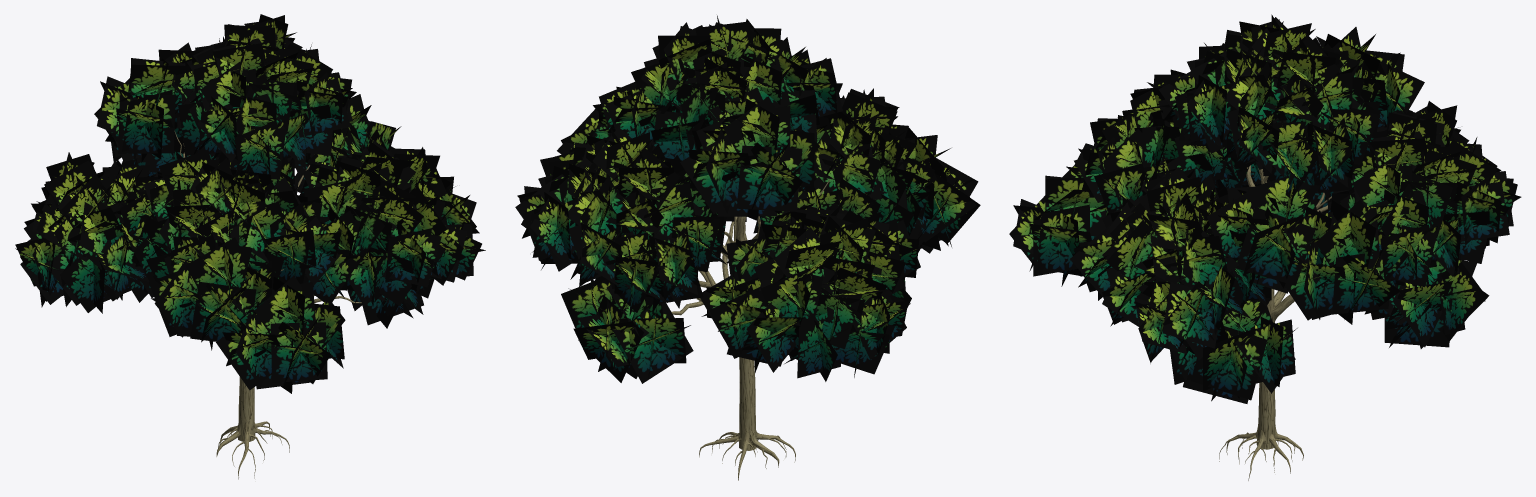
Rendered from stylized-anime-style-azureleaf-tree-pack-vol-4.glb.
The picture shows the model from 3 angles, left to right: view 1: azimuth 30°, elevation 25°; view 2: azimuth 150°, elevation 25°; view 3: azimuth 270°, elevation 25°; orthographic projection. The views are drawn at different scales.
Parts seen in each view (by area): view 1: _gltfNode_4, _gltfNode_1; view 2: _gltfNode_4, _gltfNode_1; view 3: _gltfNode_4, _gltfNode_1.
Part boxes in pixels (box(x1,y1,x2,y2)): _gltfNode_4: box(15, 14, 485, 393); _gltfNode_1: box(174, 131, 361, 479); _gltfNode_4: box(515, 15, 980, 383); _gltfNode_1: box(671, 179, 829, 480); _gltfNode_4: box(1009, 14, 1521, 403); _gltfNode_1: box(1219, 165, 1331, 480).
Bounding box in the file's own units: 690 × 747 × 762.
Materials: 2 (2 with a texture image).
